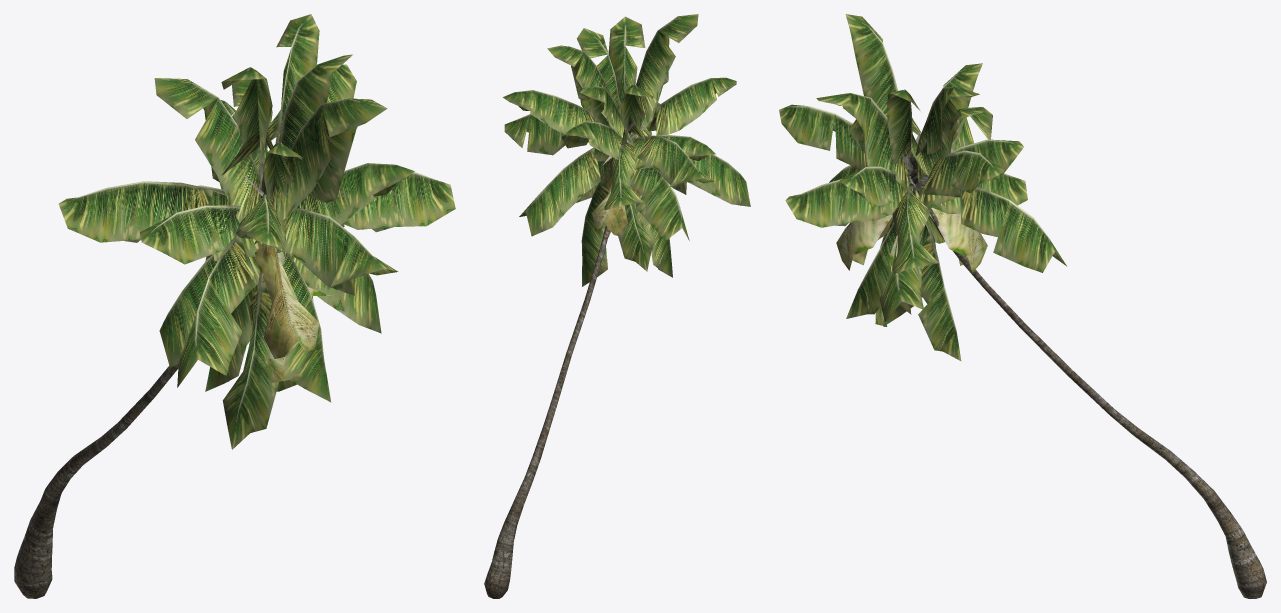
File: Palm_Tree_Large_h.fbx
3 views of the same model, side by side, from view 1: azimuth 30°, elevation 25°; view 2: azimuth 150°, elevation 25°; view 3: azimuth 270°, elevation 25° (orthographic). The views are drawn at different scales.
Parts seen in each view (by area): view 1: leaf_tree_large_h_mesh, trunk_tree_large_h_mesh; view 2: leaf_tree_large_h_mesh, trunk_tree_large_h_mesh; view 3: leaf_tree_large_h_mesh, trunk_tree_large_h_mesh.
Part boxes in pixels (x1=…): leaf_tree_large_h_mesh: x1=58, y1=14, x2=455, y2=449; trunk_tree_large_h_mesh: x1=14, y1=364, x2=178, y2=598; leaf_tree_large_h_mesh: x1=502, y1=14, x2=750, y2=286; trunk_tree_large_h_mesh: x1=484, y1=226, x2=609, y2=598; leaf_tree_large_h_mesh: x1=779, y1=14, x2=1066, y2=360; trunk_tree_large_h_mesh: x1=911, y1=174, x2=1266, y2=598.
Size of the model in its own units: 8.16 by 15.87 by 12.46.
Materials: 2 (2 with a texture image).
